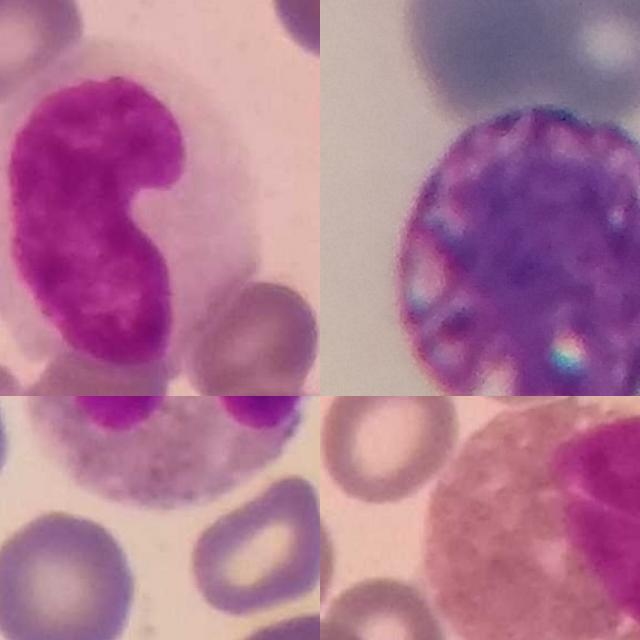Basophil: (394, 100, 640, 396)
Eosinophil: (422, 399, 640, 640), (24, 396, 314, 509)
Monocyte: (0, 47, 261, 371)
